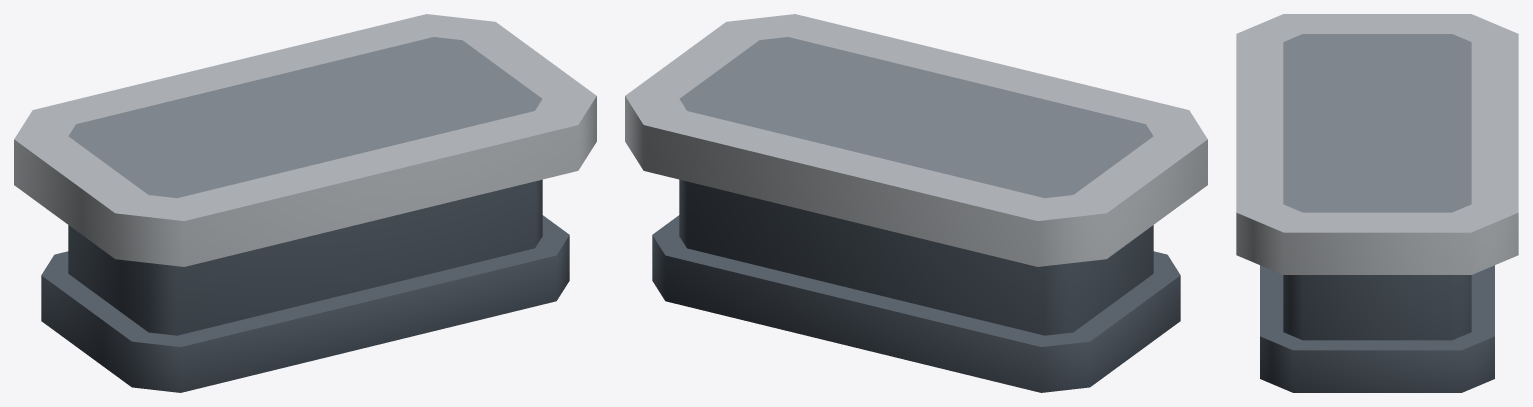
The model's file is table.glb.
The picture shows the model from 3 angles, left to right: view 1: azimuth 30°, elevation 25°; view 2: azimuth 150°, elevation 25°; view 3: azimuth 270°, elevation 25°; orthographic projection. The views are drawn at different scales.
Parts seen in each view (by area): view 1: table; view 2: table; view 3: table.
Part boxes in pixels (left/top/right/bottom): table: left=14, top=14, right=596, bottom=392; table: left=625, top=14, right=1207, bottom=392; table: left=1236, top=14, right=1518, bottom=392.
Size of the model in its own units: 1.1 by 0.4001 by 0.6.
